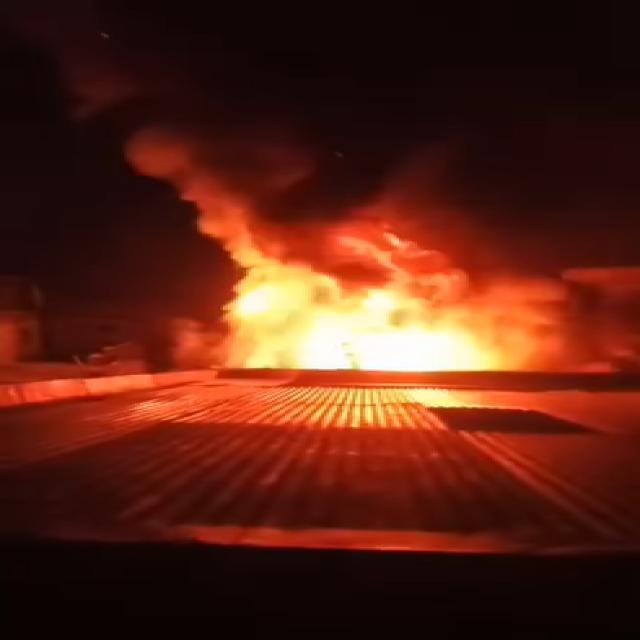Fire: (233, 265, 552, 378)
Smoke: (70, 16, 640, 314)
